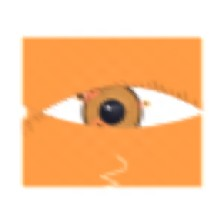foreign_body_visible: (136, 96, 156, 111)
